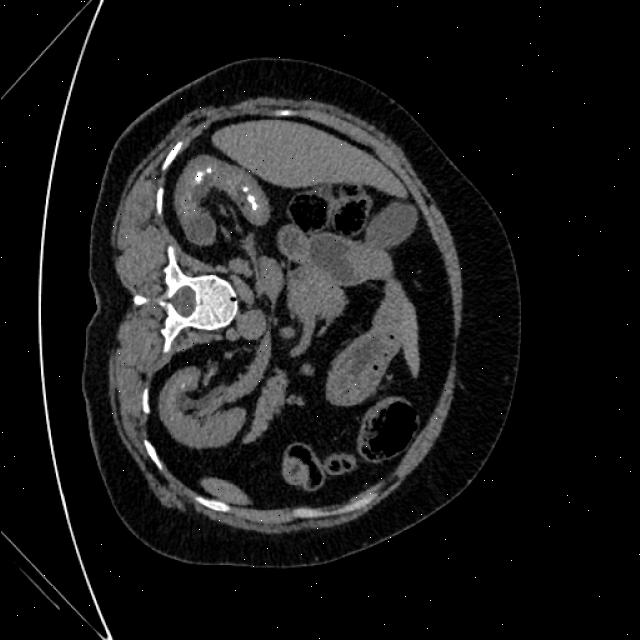kidneystone: (247, 195, 258, 211), (194, 171, 201, 181), (242, 186, 252, 191), (207, 168, 211, 174)
